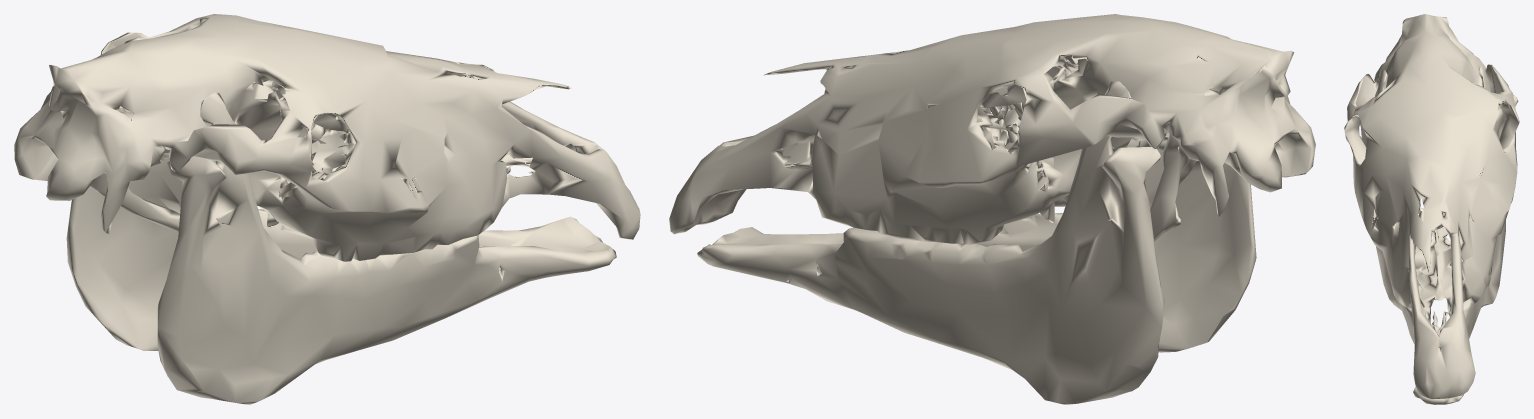
File: equine-skull-edinburgh-quick-6b6287ec664d.glb
3 renders of one model, left to right at view 1: azimuth 30°, elevation 25°; view 2: azimuth 150°, elevation 25°; view 3: azimuth 270°, elevation 25°, orthographic. The views are drawn at different scales.
Parts seen in each view (by area): view 1: specimen; view 2: specimen; view 3: specimen.
Part boxes in pixels (bbox=[...]): specimen: bbox=[14, 14, 640, 404]; specimen: bbox=[669, 14, 1315, 404]; specimen: bbox=[1344, 14, 1519, 404].
Size of the model in its own units: 2 by 1.11 by 0.7574.
